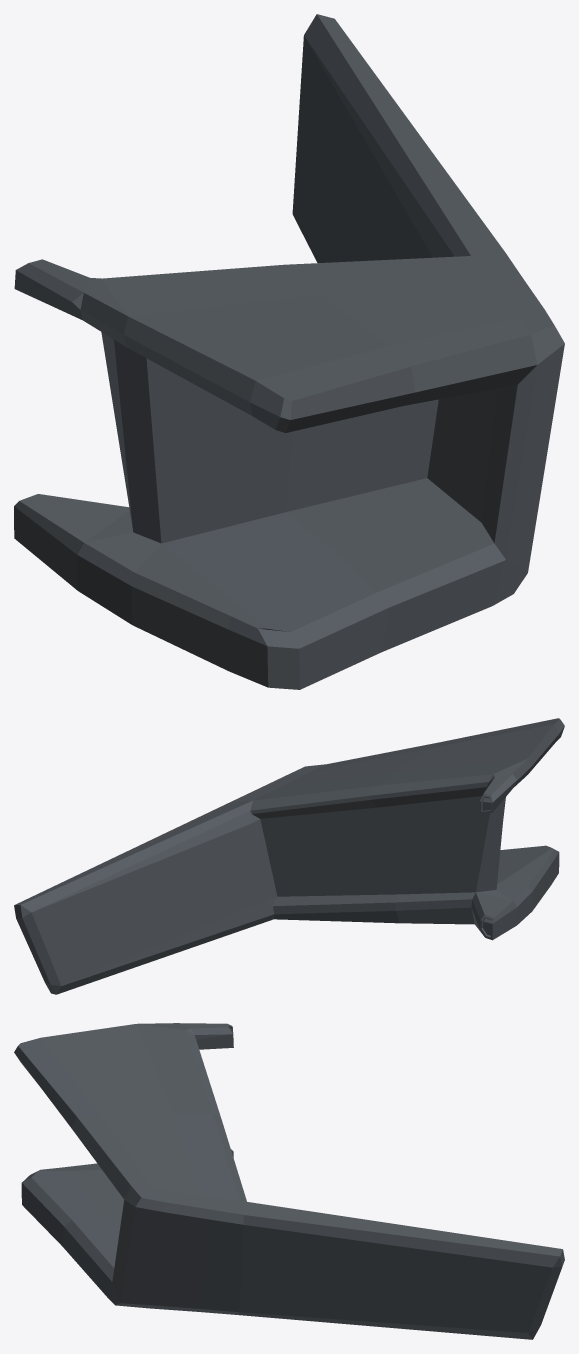
File: Fighter_07_Primary_Wing_Left_Blue.fbx
The picture shows the model from 3 angles, top to bottom: view 1: azimuth 30°, elevation 25°; view 2: azimuth 150°, elevation 25°; view 3: azimuth 270°, elevation 25°; orthographic projection. The views are drawn at different scales.
Visible parts, largest first — view 1: Fighter_07_Primary_Wing_Left_Blue; view 2: Fighter_07_Primary_Wing_Left_Blue; view 3: Fighter_07_Primary_Wing_Left_Blue.
Part boxes in pixels (x1=…): Fighter_07_Primary_Wing_Left_Blue: x1=14, y1=14, x2=564, y2=689; Fighter_07_Primary_Wing_Left_Blue: x1=14, y1=718, x2=564, y2=994; Fighter_07_Primary_Wing_Left_Blue: x1=14, y1=1023, x2=564, y2=1339.
Bounding box in the file's own units: 486 × 261 × 696.
Materials: 1 (1 with a texture image).
